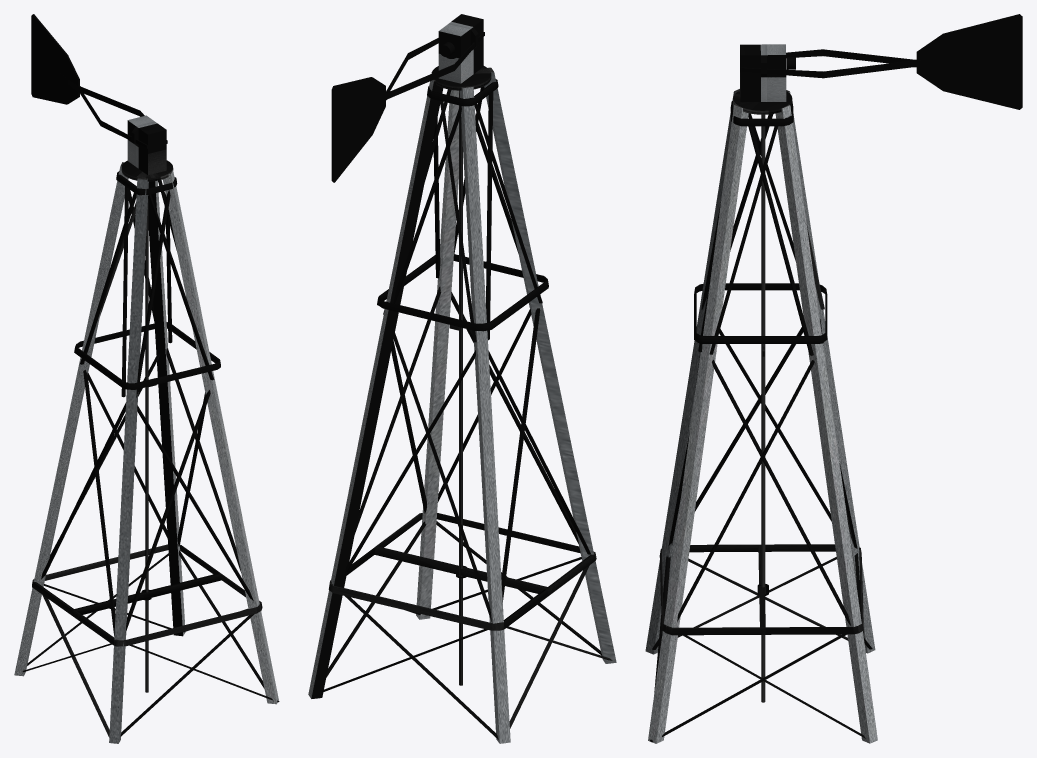
The model's file is Molino.obj.
3 views of the same model, side by side, from view 1: azimuth 30°, elevation 25°; view 2: azimuth 150°, elevation 25°; view 3: azimuth 270°, elevation 25° (orthographic). The views are drawn at different scales.
Visible parts, largest first — view 1: Molino:MeshgrouppolySurface2 polySurface105, Molino:MeshgrouppolySurface2 polySurface103, Molino:MeshgrouppolySurface2 polySurface104, Molino:MeshgrouppolySurface2 polySurface102, Molino:MeshgrouppolySurface2 polySurface98, Molino:MeshgrouppolySurface2 polySurface135, Molino:MeshgrouppolySurface2 polySurface51, Molino:MeshgrouppolySurface2 polySurface60, Molino:MeshgrouppolySurface2 polySurface91, Molino:MeshgrouppolySurface2 polySurface84, Molino:MeshgrouppolySurface2 polySurface82, Molino:MeshgrouppolySurface2 polySurface79 (+15 smaller); view 2: Molino:MeshgrouppolySurface2 polySurface104, Molino:MeshgrouppolySurface2 polySurface102, Molino:MeshgrouppolySurface2 polySurface105, Molino:MeshgrouppolySurface2 polySurface103, Molino:MeshgrouppolySurface2 polySurface98, Molino:MeshgrouppolySurface2 polySurface135, Molino:MeshgrouppolySurface2 polySurface51, Molino:MeshgrouppolySurface2 polySurface60, Molino:MeshgrouppolySurface2 polySurface92, Molino:MeshgrouppolySurface2 polySurface64, Molino:MeshgrouppolySurface2 polySurface89, Molino:MeshgrouppolySurface2 polySurface84 (+20 smaller); view 3: Molino:MeshgrouppolySurface2 polySurface102, Molino:MeshgrouppolySurface2 polySurface103, Molino:MeshgrouppolySurface2 polySurface142, Molino:MeshgrouppolySurface2 polySurface105, Molino:MeshgrouppolySurface2 polySurface98, Molino:MeshgrouppolySurface2 polySurface104, Molino:MeshgrouppolySurface2 polySurface60, Molino:MeshgrouppolySurface2 polySurface51, Molino:MeshgrouppolySurface2 polySurface110, Molino:MeshgrouppolySurface2 polySurface73, Molino:MeshgrouppolySurface2 polySurface74, Molino:MeshgrouppolySurface2 polySurface72 (+6 smaller).
Boxes of the visible parts, x1,y1,x2,y2 form: Molino:MeshgrouppolySurface2 polySurface105: (109, 177, 148, 743); Molino:MeshgrouppolySurface2 polySurface103: (162, 170, 278, 704); Molino:MeshgrouppolySurface2 polySurface104: (14, 162, 128, 676); Molino:MeshgrouppolySurface2 polySurface102: (148, 180, 185, 636); Molino:MeshgrouppolySurface2 polySurface98: (32, 544, 262, 646); Molino:MeshgrouppolySurface2 polySurface135: (31, 14, 78, 104); Molino:MeshgrouppolySurface2 polySurface51: (74, 322, 220, 389); Molino:MeshgrouppolySurface2 polySurface60: (145, 198, 148, 692); Molino:MeshgrouppolySurface2 polySurface91: (83, 370, 115, 635); Molino:MeshgrouppolySurface2 polySurface84: (125, 390, 210, 632); Molino:MeshgrouppolySurface2 polySurface82: (137, 405, 253, 600); Molino:MeshgrouppolySurface2 polySurface79: (136, 190, 170, 397); Molino:MeshgrouppolySurface2 polySurface104: (459, 86, 510, 743); Molino:MeshgrouppolySurface2 polySurface102: (308, 80, 443, 698); Molino:MeshgrouppolySurface2 polySurface105: (484, 67, 616, 663); Molino:MeshgrouppolySurface2 polySurface103: (416, 90, 458, 619); Molino:MeshgrouppolySurface2 polySurface98: (328, 513, 596, 630); Molino:MeshgrouppolySurface2 polySurface135: (333, 77, 385, 182); Molino:MeshgrouppolySurface2 polySurface51: (377, 254, 548, 331); Molino:MeshgrouppolySurface2 polySurface60: (459, 90, 462, 685); Molino:MeshgrouppolySurface2 polySurface92: (501, 308, 540, 602); Molino:MeshgrouppolySurface2 polySurface64: (392, 333, 491, 621); Molino:MeshgrouppolySurface2 polySurface89: (486, 92, 493, 340); Molino:MeshgrouppolySurface2 polySurface84: (451, 292, 579, 544); Molino:MeshgrouppolySurface2 polySurface102: (775, 104, 877, 743); Molino:MeshgrouppolySurface2 polySurface103: (648, 104, 748, 743); Molino:MeshgrouppolySurface2 polySurface142: (916, 15, 1022, 109); Molino:MeshgrouppolySurface2 polySurface105: (645, 89, 739, 654); Molino:MeshgrouppolySurface2 polySurface98: (659, 544, 863, 635); Molino:MeshgrouppolySurface2 polySurface104: (786, 90, 875, 653); Molino:MeshgrouppolySurface2 polySurface60: (761, 114, 765, 702); Molino:MeshgrouppolySurface2 polySurface51: (694, 283, 827, 343); Molino:MeshgrouppolySurface2 polySurface110: (740, 55, 786, 101); Molino:MeshgrouppolySurface2 polySurface73: (712, 359, 850, 625); Molino:MeshgrouppolySurface2 polySurface74: (677, 360, 814, 621); Molino:MeshgrouppolySurface2 polySurface72: (748, 126, 813, 355).
Size of the model in its own units: 28.16 by 92.79 by 46.21.
